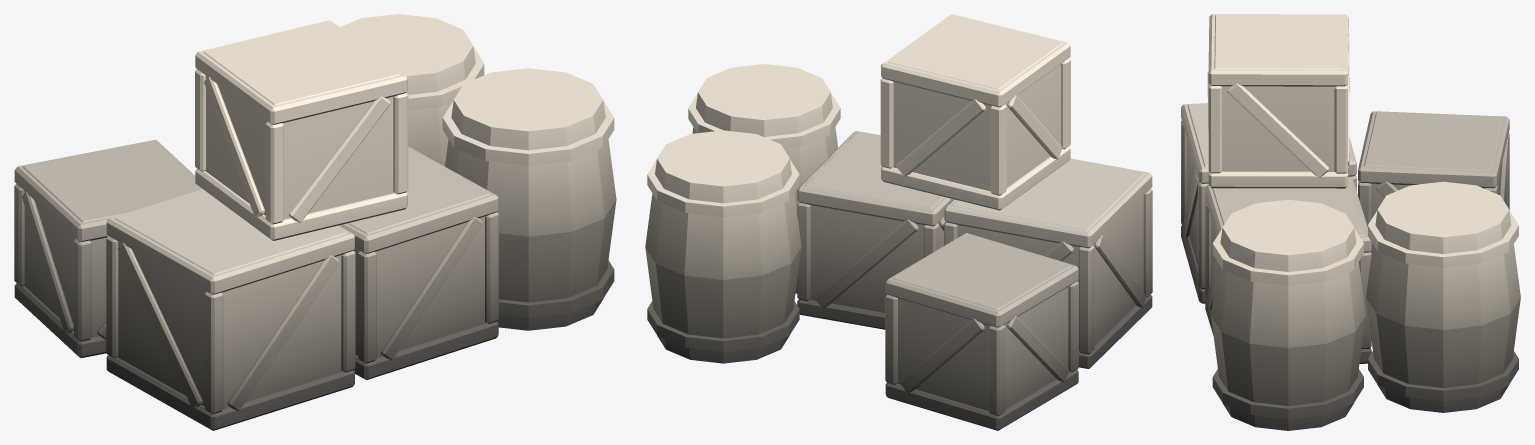
File: SM_VK_Prop_Crates.fbx
The picture shows the model from 3 angles, left to right: view 1: azimuth 30°, elevation 25°; view 2: azimuth 150°, elevation 25°; view 3: azimuth 270°, elevation 25°; orthographic projection. The views are drawn at different scales.
Visible parts, largest first — view 1: SM_VK_Prop_Crates.001; view 2: SM_VK_Prop_Crates.001; view 3: SM_VK_Prop_Crates.001.
Part boxes in pixels (left/top/right/bottom): SM_VK_Prop_Crates.001: left=14, top=14, right=616, bottom=430; SM_VK_Prop_Crates.001: left=645, top=14, right=1152, bottom=430; SM_VK_Prop_Crates.001: left=1181, top=14, right=1520, bottom=430.
Bounding box in the file's own units: 2.51 × 1.49 × 1.75.
